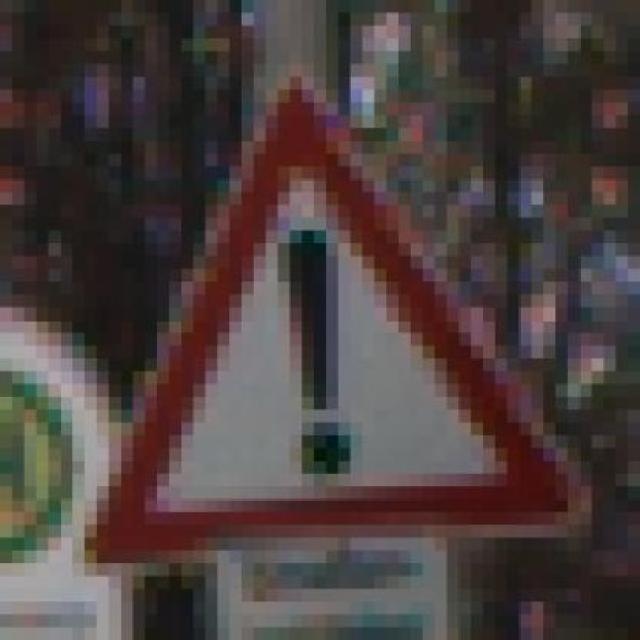Attention Please-: (49, 76, 616, 576)
